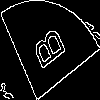B: (25, 25, 67, 77)
